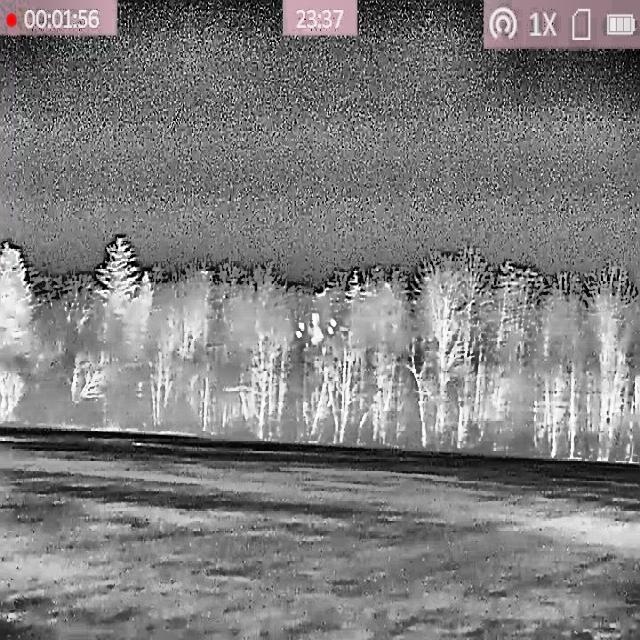drone: (295, 309, 339, 356)
